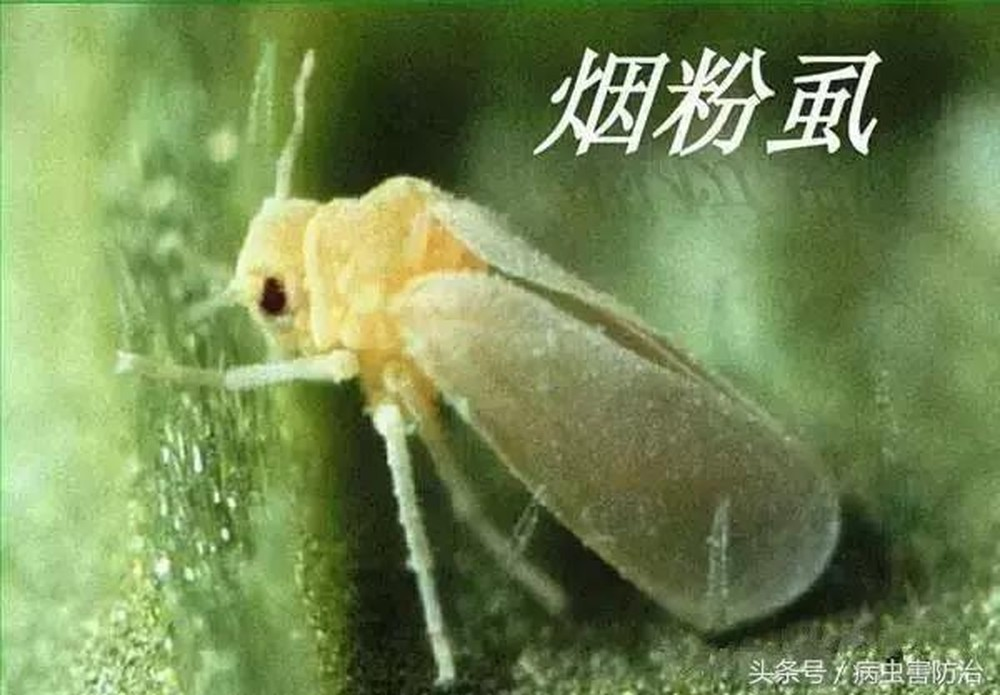Mosca Blanca: (122, 52, 866, 658)
